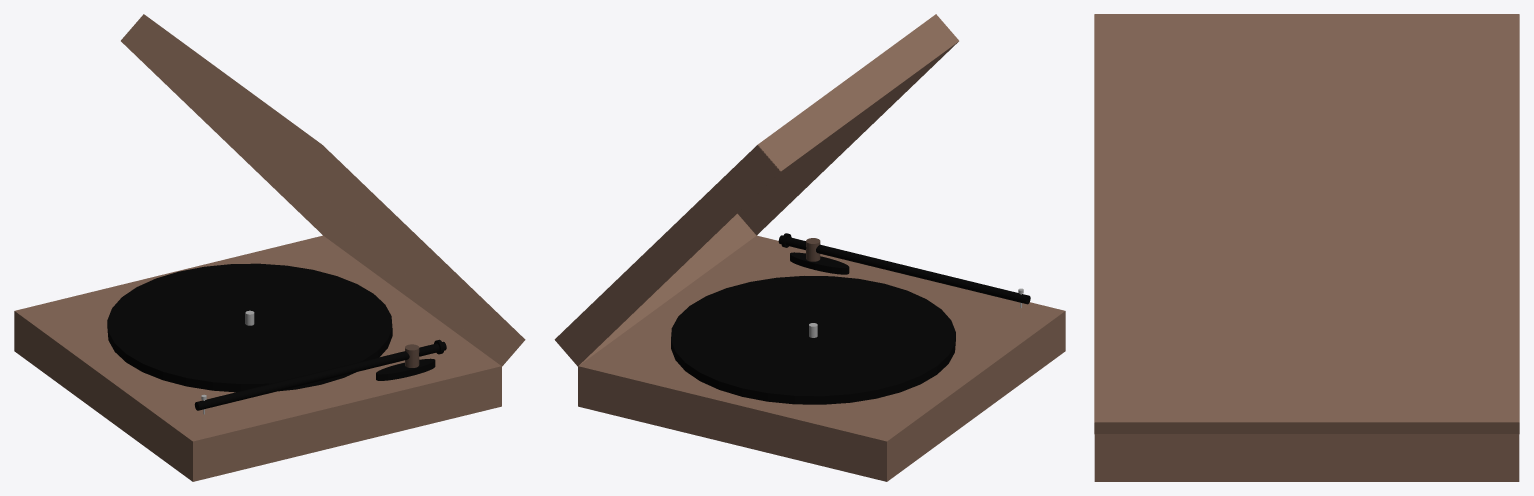
File: recordplay 1.fbx
3 views of the same model, side by side, from view 1: azimuth 30°, elevation 25°; view 2: azimuth 150°, elevation 25°; view 3: azimuth 270°, elevation 25° (orthographic). The views are drawn at different scales.
Parts seen in each view (by area): view 1: Cube, Cylinder.007, Cube.004, Cube.001, Cube.003, Cube.005, Cylinder.002, Cylinder.001; view 2: Cube, Cylinder.007, Cube.003, Cube.001, Cube.004, Cube.005, Cylinder.002, Cylinder.001; view 3: Cube.001, Cube, Cube.005.
Part boxes in pixels (x1,y1,x2,y2): Cube: [14, 235, 501, 481]; Cylinder.007: [107, 263, 392, 392]; Cube.004: [299, 145, 525, 366]; Cube.001: [121, 14, 321, 171]; Cube.003: [121, 41, 342, 235]; Cube.005: [323, 213, 500, 365]; Cylinder.002: [194, 341, 446, 410]; Cylinder.001: [376, 358, 435, 380]; Cube: [578, 235, 1065, 481]; Cylinder.007: [671, 276, 955, 404]; Cube.003: [555, 145, 780, 366]; Cube.001: [757, 14, 958, 171]; Cube.004: [737, 41, 958, 235]; Cube.005: [555, 213, 756, 365]; Cylinder.002: [778, 235, 1030, 304]; Cylinder.001: [790, 252, 849, 274]; Cube.001: [1094, 14, 1519, 433]; Cube: [1094, 434, 1519, 481]; Cube.005: [1095, 422, 1519, 433].
Bounding box in the file's own units: 215 × 189 × 200.
